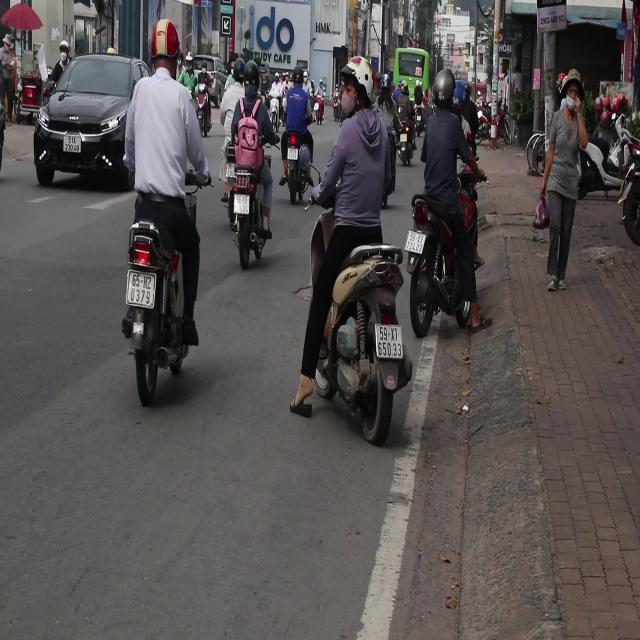bus: (393, 48, 430, 102)
car: (34, 54, 152, 189), (193, 56, 230, 101)
motorbike: (314, 233, 418, 445), (122, 214, 190, 404), (402, 205, 492, 325), (220, 136, 272, 269), (604, 101, 639, 235), (286, 137, 314, 206), (394, 119, 417, 167), (195, 92, 212, 137), (268, 95, 284, 136), (316, 96, 330, 136)
